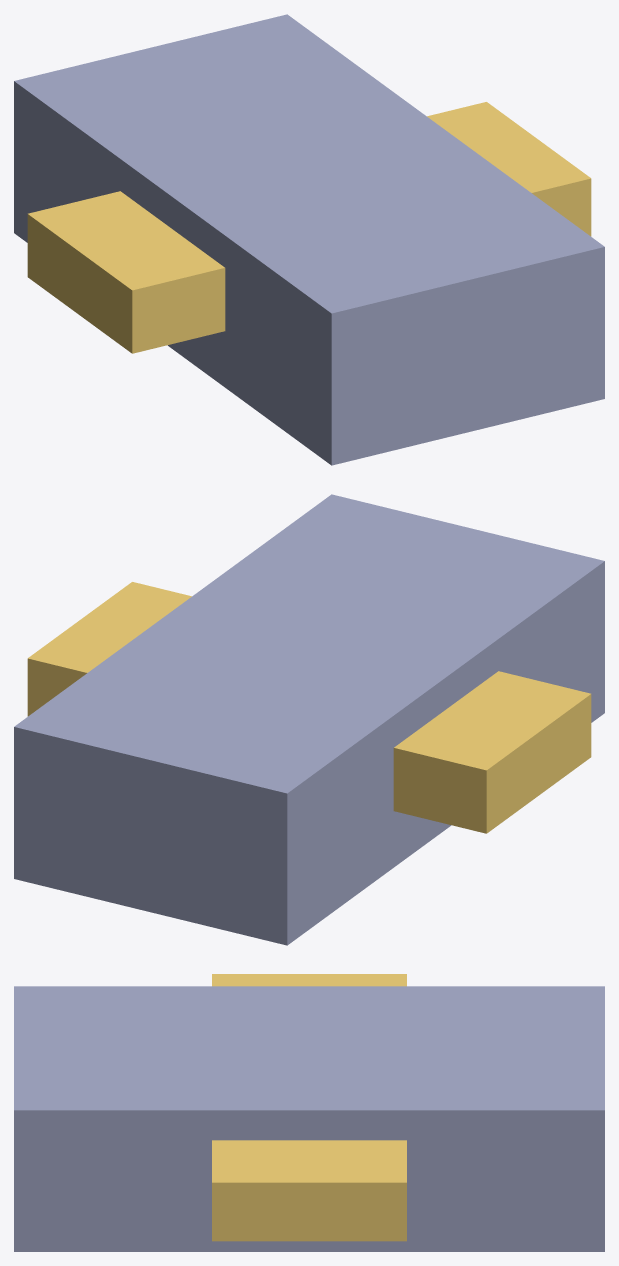
File: Scenario.fbx
3 views of the same model, one above another, from view 1: azimuth 30°, elevation 25°; view 2: azimuth 150°, elevation 25°; view 3: azimuth 270°, elevation 25° (orthographic). The views are drawn at different scales.
Parts seen in each view (by area): view 1: Scenario, EnemySpot, PlayerSpot; view 2: Scenario, EnemySpot, PlayerSpot; view 3: Scenario, PlayerSpot, EnemySpot.
Part boxes in pixels (x1=…): Scenario: x1=14, y1=14, x2=604, y2=465; EnemySpot: x1=27, y1=191, x2=225, y2=353; PlayerSpot: x1=427, y1=102, x2=591, y2=236; Scenario: x1=14, y1=494, x2=604, y2=945; EnemySpot: x1=393, y1=671, x2=591, y2=833; PlayerSpot: x1=27, y1=582, x2=191, y2=716; Scenario: x1=14, y1=986, x2=604, y2=1251; PlayerSpot: x1=212, y1=1140, x2=406, y2=1241; EnemySpot: x1=212, y1=974, x2=406, y2=986.
Size of the model in its own units: 2511 by 795 by 3009.
